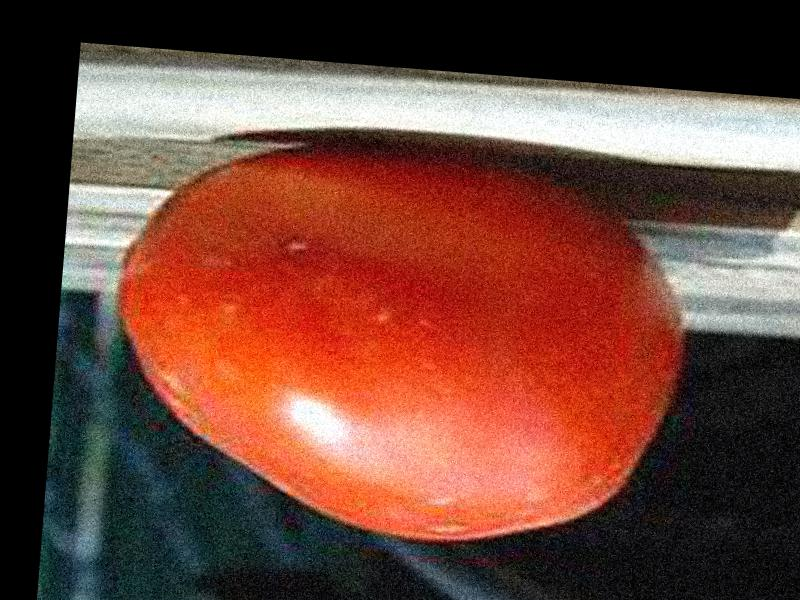Tomato: (99, 131, 692, 559)
